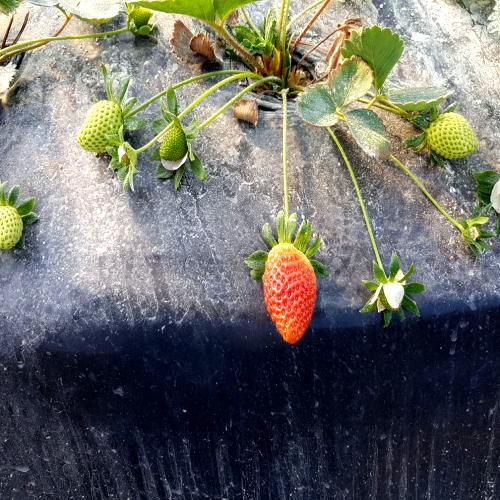ripe: (261, 227, 322, 360)
unripe: (70, 91, 126, 160), (422, 107, 482, 164)
